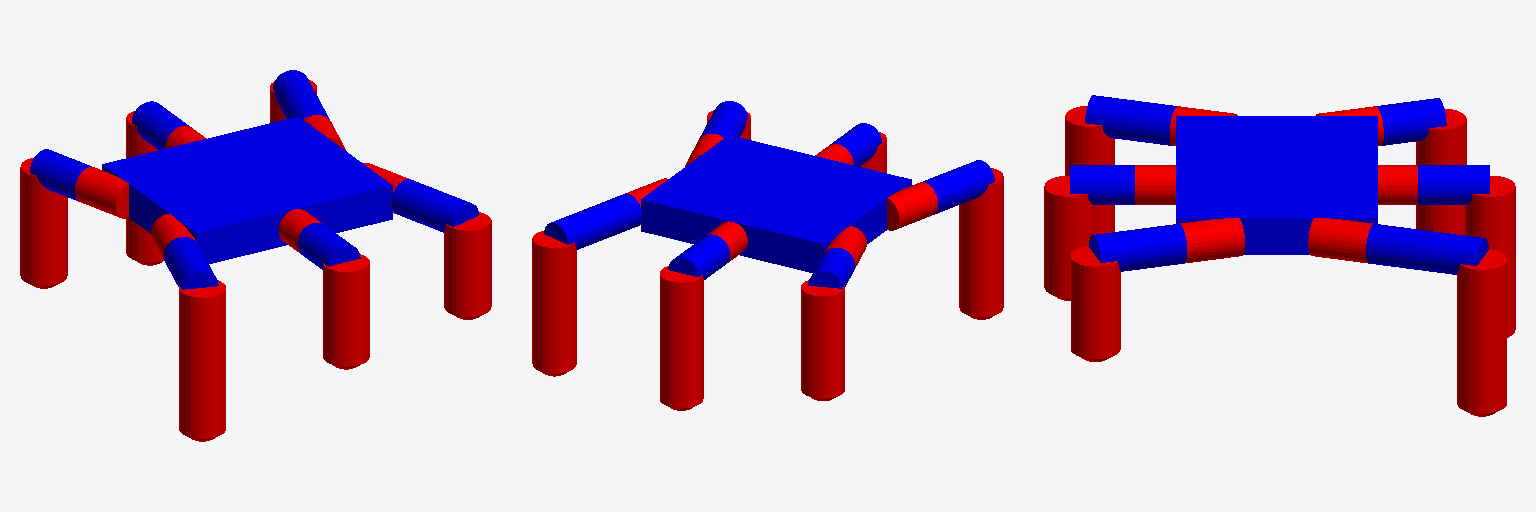
--- Render facts (derived) ---
The picture shows the robot from 3 angles, left to right: view 1: azimuth 30°, elevation 25°; view 2: azimuth 150°, elevation 25°; view 3: azimuth 270°, elevation 25°; orthographic projection.
Robot: pexod — 19 links, 18 joints (18 revolute); root link base_link; default pose: all joints at 0.
Links seen in each view (by area): view 1: base_link, leg_5_3, leg_0_3, leg_4_3, leg_3_3, leg_3_2, leg_0_1, leg_5_2, leg_4_2, leg_1_3, leg_2_2, leg_0_2 (+4 smaller); view 2: base_link, leg_2_3, leg_1_3, leg_5_3, leg_0_3, leg_2_2, leg_5_2, leg_5_1, leg_1_2, leg_0_2, leg_4_2, leg_3_2 (+2 smaller); view 3: base_link, leg_2_3, leg_3_3, leg_2_2, leg_4_3, leg_1_3, leg_3_2, leg_0_3, leg_5_2, leg_5_3, leg_1_2, leg_4_2 (+7 smaller).
Boxes of the visible links, x1=… form: base_link: x1=102, y1=116, x2=392, y2=263; leg_5_3: x1=179, y1=280, x2=225, y2=441; leg_0_3: x1=20, y1=158, x2=67, y2=288; leg_4_3: x1=323, y1=254, x2=369, y2=369; leg_3_3: x1=444, y1=212, x2=491, y2=319; leg_3_2: x1=391, y1=179, x2=478, y2=232; leg_0_1: x1=75, y1=167, x2=128, y2=218; leg_5_2: x1=164, y1=237, x2=218, y2=289; leg_4_2: x1=297, y1=223, x2=360, y2=269; leg_1_3: x1=126, y1=111, x2=163, y2=265; leg_2_2: x1=273, y1=70, x2=331, y2=122; leg_0_2: x1=30, y1=149, x2=91, y2=201; base_link: x1=641, y1=135, x2=911, y2=272; leg_2_3: x1=532, y1=231, x2=576, y2=376; leg_1_3: x1=660, y1=266, x2=703, y2=410; leg_5_3: x1=959, y1=168, x2=1003, y2=319; leg_0_3: x1=801, y1=280, x2=844, y2=400; leg_2_2: x1=544, y1=194, x2=641, y2=249; leg_5_2: x1=923, y1=160, x2=994, y2=214; leg_5_1: x1=887, y1=182, x2=937, y2=230; leg_1_2: x1=668, y1=234, x2=729, y2=279; leg_0_2: x1=808, y1=248, x2=854, y2=288; leg_4_2: x1=830, y1=123, x2=881, y2=166; leg_3_2: x1=699, y1=101, x2=747, y2=138; base_link: x1=1176, y1=116, x2=1377, y2=254; leg_2_3: x1=1457, y1=249, x2=1506, y2=416; leg_3_3: x1=1071, y1=246, x2=1120, y2=361; leg_2_2: x1=1366, y1=224, x2=1488, y2=274; leg_4_3: x1=1044, y1=176, x2=1094, y2=300; leg_1_3: x1=1465, y1=176, x2=1515, y2=337; leg_3_2: x1=1089, y1=224, x2=1186, y2=271; leg_0_3: x1=1416, y1=108, x2=1466, y2=234; leg_5_2: x1=1085, y1=95, x2=1176, y2=145; leg_5_3: x1=1065, y1=106, x2=1114, y2=234; leg_1_2: x1=1418, y1=165, x2=1489, y2=204; leg_4_2: x1=1070, y1=165, x2=1134, y2=204.
Bounding box of the posed robot: 0.3851 × 0.4666 × 0.1976 m (x, y, z).
Geometry: primitives only (box / cylinder / sphere), no mesh files.

URDF robot description (pexod):
<?xml version="1.0" ?>
<!-- =================================================================================== -->
<!-- |    This document was autogenerated by xacro from pexod.xacro                    | -->
<!-- |    EDITING THIS FILE BY HAND IS NOT RECOMMENDED                                 | -->
<!-- =================================================================================== -->
<robot name="pexod" xmlns:xacro="http://www.ros.org/wiki/xacro">
  <!-- <xacro:include filename="$(find pexod_description)/urdf/pexod_control.xacro" /> -->
  <!-- MATERIALS -->
  <material name="Blue">
    <color rgba="0 0 1 1"/>
  </material>
  <material name="Red">
    <color rgba="1 0 0 1"/>
  </material>
  <material name="Green">
    <color rgba="0 1 0 1"/>
  </material>
  <material name="Yellow">
    <color rgba="1 1 0 1"/>
  </material>
  <material name="LightGrey">
    <color rgba="0.6 0.6 0.6 1.0"/>
  </material>
  <!-- END OF MATERIALS -->
  <!-- XACRO MACROS FOR VISUALS AND COLLISIONS -->
  <!-- END OF XACRO MACROS -->
  <!-- TORSO -->
  <link name="base_link">
    <visual>
      <origin rpy="0 0 0" xyz="0 0 0"/>
      <geometry>
        <box size="0.24 0.2 0.04"/>
      </geometry>
      <material name="Blue"/>
    </visual>
    <collision>
      <origin rpy="0 0 0" xyz="0 0 0"/>
      <geometry>
        <box size="0.24 0.2 0.04"/>
      </geometry>
    </collision>
    <inertial>
      <!-- CENTER OF MASS -->
      <origin rpy="0 0 0" xyz="0 0 0"/>
      <mass value="1.031"/>
      <!-- box inertia: 1/12*m(y^2+z^2), ... -->
      <inertia ixx="0.00357413333333" ixy="0" ixz="0" iyy="0.00508626666667" iyz="0" izz="0.00838546666667"/>
    </inertial>
  </link>
  <!-- XACRO MACRO FOR LEGS LINKS/JOINTS -->
  <!-- END OF LEG LINKS/JOINTS -->
  <joint name="body_leg_2" type="revolute">
    <parent link="base_link"/>
    <child link="leg_2_1"/>
    <limit effort="30.0" lower="-1.57079632679" upper="1.57079632679" velocity="7.0"/>
    <origin rpy="0 0 -0.3" xyz="0.11 0.04 0"/>
    <!-- <xacro:if value="${index == 5 or index == 4 or index == 3}">
                <axis xyz="0 0 1"/>
            </xacro:if>
            <xacro:if value="${index == 2 or index == 1 or index == 0}"> -->
    <axis xyz="0 0 1"/>
    <!-- </xacro:if> -->
    <dynamics damping="0.0"/>
  </joint>
  <link name="leg_2_1">
    <visual>
      <origin rpy="1.57079632679 0 0" xyz="0.01 0.03 0"/>
      <geometry>
        <cylinder length="0.06" radius="0.02"/>
      </geometry>
      <material name="Red"/>
    </visual>
    <collision>
      <origin rpy="1.57079632679 0 0" xyz="0.01 0.03 0"/>
      <geometry>
        <box size="0.02 0.02 0.06"/>
      </geometry>
    </collision>
    <inertial>
      <!-- CENTER OF MASS -->
      <origin rpy="1.57079632679 0 0" xyz="0.01 0.03 0"/>
      <mass value="0.02"/>
      <!-- box inertia: 1/12*m(y^2+z^2), ... -->
      <inertia ixx="6.66666666667e-06" ixy="0" ixz="0" iyy="6.66666666667e-06" iyz="0" izz="1.33333333333e-06"/>
    </inertial>
  </link>
  <joint name="leg_2_1_2" type="revolute">
    <parent link="leg_2_1"/>
    <child link="leg_2_2"/>
    <limit effort="30.0" lower="-0.78539816339" upper="0.78539816339" velocity="7.0"/>
    <origin rpy="0 0 0" xyz="0 0.06 0"/>
    <axis xyz="1 0 0"/>
    <dynamics damping="0.0"/>
  </joint>
  <link name="leg_2_2">
    <visual>
      <origin rpy="1.57079632679 0 0" xyz="0.01 0.057443594527 0"/>
      <geometry>
        <cylinder length="0.114887189054" radius="0.02"/>
      </geometry>
      <material name="Blue"/>
    </visual>
    <collision>
      <origin rpy="1.57079632679 0 0" xyz="0.01 0.057443594527 0"/>
      <geometry>
        <box size="0.02 0.02 0.114887189054"/>
      </geometry>
    </collision>
    <inertial>
      <!-- CENTER OF MASS -->
      <origin rpy="1.57079632679 0 0" xyz="0.01 0.057443594527 0"/>
      <mass value="0.184"/>
      <!-- box inertia: 1/12*m(y^2+z^2), ... -->
      <inertia ixx="0.000208519015201" ixy="0" ixz="0" iyy="0.000208519015201" iyz="0" izz="1.22666666667e-05"/>
    </inertial>
  </link>
  <joint name="leg_2_2_3" type="revolute">
    <parent link="leg_2_2"/>
    <child link="leg_2_3"/>
    <limit effort="30.0" lower="-0.78539816339" upper="0.78539816339" velocity="7.0"/>
    <origin rpy="-1.57079632679 0 0" xyz="0 0.114887189054 0"/>
    <axis xyz="-1 0 0"/>
    <dynamics damping="0.0"/>
  </joint>
  <link name="leg_2_3">
    <visual>
      <origin rpy="1.57079632679 0 0" xyz="0.0125 0.0786646123855 0"/>
      <geometry>
        <cylinder length="0.157329224771" radius="0.025"/>
      </geometry>
      <material name="Red"/>
    </visual>
    <visual>
      <origin rpy="1.57079632679 0 0" xyz="0.0125 0.144829224771 0"/>
      <geometry>
        <sphere radius="0.025"/>
      </geometry>
      <material name="Red"/>
    </visual>
    <collision>
      <origin rpy="1.57079632679 0 0" xyz="0.0125 0.0786646123855 0"/>
      <geometry>
        <box size="0.025 0.025 0.157329224771"/>
      </geometry>
    </collision>
    <collision>
      <origin rpy="1.57079632679 0 0" xyz="0.0125 0.144829224771 0"/>
      <geometry>
        <sphere radius="0.025"/>
      </geometry>
      <material name="Red"/>
    </collision>
    <inertial>
      <!-- CENTER OF MASS -->
      <origin rpy="1.57079632679 0 0" xyz="0.0125 0.0786646123855 0"/>
      <mass value="0.04"/>
      <!-- box inertia: 1/12*m(y^2+z^2), ... -->
      <inertia ixx="8.45916165568e-05" ixy="0" ixz="0" iyy="8.45916165568e-05" iyz="0" izz="4.16666666667e-06"/>
    </inertial>
  </link>
  <joint name="body_leg_3" type="revolute">
    <parent link="base_link"/>
    <child link="leg_3_1"/>
    <limit effort="30.0" lower="-1.57079632679" upper="1.57079632679" velocity="7.0"/>
    <origin rpy="0 0 0.3" xyz="0.11 -0.04 0"/>
    <!-- <xacro:if value="${index == 5 or index == 4 or index == 3}">
                <axis xyz="0 0 1"/>
            </xacro:if>
            <xacro:if value="${index == 2 or index == 1 or index == 0}"> -->
    <axis xyz="0 0 1"/>
    <!-- </xacro:if> -->
    <dynamics damping="0.0"/>
  </joint>
  <link name="leg_3_1">
    <visual>
      <origin rpy="1.57079632679 0 0" xyz="0.01 -0.03 0"/>
      <geometry>
        <cylinder length="0.06" radius="0.02"/>
      </geometry>
      <material name="Red"/>
    </visual>
    <collision>
      <origin rpy="1.57079632679 0 0" xyz="0.01 -0.03 0"/>
      <geometry>
        <box size="0.02 0.02 0.06"/>
      </geometry>
    </collision>
    <inertial>
      <!-- CENTER OF MASS -->
      <origin rpy="1.57079632679 0 0" xyz="0.01 -0.03 0"/>
      <mass value="0.02"/>
      <!-- box inertia: 1/12*m(y^2+z^2), ... -->
      <inertia ixx="6.66666666667e-06" ixy="0" ixz="0" iyy="6.66666666667e-06" iyz="0" izz="1.33333333333e-06"/>
    </inertial>
  </link>
  <joint name="leg_3_1_2" type="revolute">
    <parent link="leg_3_1"/>
    <child link="leg_3_2"/>
    <limit effort="30.0" lower="-0.78539816339" upper="0.78539816339" velocity="7.0"/>
    <origin rpy="0 0 0" xyz="0 -0.06 0"/>
    <axis xyz="-1 0 0"/>
    <dynamics damping="0.0"/>
  </joint>
  <link name="leg_3_2">
    <visual>
      <origin rpy="1.57079632679 0 0" xyz="0.01 -0.0448784305665 0"/>
      <geometry>
        <cylinder length="0.089756861133" radius="0.02"/>
      </geometry>
      <material name="Blue"/>
    </visual>
    <collision>
      <origin rpy="1.57079632679 0 0" xyz="0.01 -0.0448784305665 0"/>
      <geometry>
        <box size="0.02 0.02 0.089756861133"/>
      </geometry>
    </collision>
    <inertial>
      <!-- CENTER OF MASS -->
      <origin rpy="1.57079632679 0 0" xyz="0.01 -0.0448784305665 0"/>
      <mass value="0.184"/>
      <!-- box inertia: 1/12*m(y^2+z^2), ... -->
      <inertia ixx="0.000129663176514" ixy="0" ixz="0" iyy="0.000129663176514" iyz="0" izz="1.22666666667e-05"/>
    </inertial>
  </link>
  <joint name="leg_3_2_3" type="revolute">
    <parent link="leg_3_2"/>
    <child link="leg_3_3"/>
    <limit effort="30.0" lower="-0.78539816339" upper="0.78539816339" velocity="7.0"/>
    <origin rpy="1.57079632679 0 0" xyz="0 -0.089756861133 0"/>
    <axis xyz="1 0 0"/>
    <dynamics damping="0.0"/>
  </joint>
  <link name="leg_3_3">
    <visual>
      <origin rpy="1.57079632679 0 0" xyz="0.0125 -0.0506170366045 0"/>
      <geometry>
        <cylinder length="0.101234073209" radius="0.025"/>
      </geometry>
      <material name="Red"/>
    </visual>
    <visual>
      <origin rpy="1.57079632679 0 0" xyz="0.0125 -0.088734073209 0"/>
      <geometry>
        <sphere radius="0.025"/>
      </geometry>
      <material name="Red"/>
    </visual>
    <collision>
      <origin rpy="1.57079632679 0 0" xyz="0.0125 -0.0506170366045 0"/>
      <geometry>
        <box size="0.025 0.025 0.101234073209"/>
      </geometry>
    </collision>
    <collision>
      <origin rpy="1.57079632679 0 0" xyz="0.0125 -0.088734073209 0"/>
      <geometry>
        <sphere radius="0.025"/>
      </geometry>
      <material name="Red"/>
    </collision>
    <inertial>
      <!-- CENTER OF MASS -->
      <origin rpy="1.57079632679 0 0" xyz="0.0125 -0.0506170366045 0"/>
      <mass value="0.04"/>
      <!-- box inertia: 1/12*m(y^2+z^2), ... -->
      <inertia ixx="3.6244458595e-05" ixy="0" ixz="0" iyy="3.6244458595e-05" iyz="0" izz="4.16666666667e-06"/>
    </inertial>
  </link>
  <joint name="body_leg_0" type="revolute">
    <parent link="base_link"/>
    <child link="leg_0_1"/>
    <limit effort="30.0" lower="-1.57079632679" upper="1.57079632679" velocity="7.0"/>
    <origin rpy="0 0 0.3" xyz="-0.13 0.04 0"/>
    <!-- <xacro:if value="${index == 5 or index == 4 or index == 3}">
                <axis xyz="0 0 1"/>
            </xacro:if>
            <xacro:if value="${index == 2 or index == 1 or index == 0}"> -->
    <axis xyz="0 0 1"/>
    <!-- </xacro:if> -->
    <dynamics damping="0.0"/>
  </joint>
  <link name="leg_0_1">
    <visual>
      <origin rpy="1.57079632679 0 0" xyz="0.01 0.03 0"/>
      <geometry>
        <cylinder length="0.06" radius="0.02"/>
      </geometry>
      <material name="Red"/>
    </visual>
    <collision>
      <origin rpy="1.57079632679 0 0" xyz="0.01 0.03 0"/>
      <geometry>
        <box size="0.02 0.02 0.06"/>
      </geometry>
    </collision>
    <inertial>
      <!-- CENTER OF MASS -->
      <origin rpy="1.57079632679 0 0" xyz="0.01 0.03 0"/>
      <mass value="0.02"/>
      <!-- box inertia: 1/12*m(y^2+z^2), ... -->
      <inertia ixx="6.66666666667e-06" ixy="0" ixz="0" iyy="6.66666666667e-06" iyz="0" izz="1.33333333333e-06"/>
    </inertial>
  </link>
  <joint name="leg_0_1_2" type="revolute">
    <parent link="leg_0_1"/>
    <child link="leg_0_2"/>
    <limit effort="30.0" lower="-0.78539816339" upper="0.78539816339" velocity="7.0"/>
    <origin rpy="0 0 0" xyz="0 0.06 0"/>
    <axis xyz="1 0 0"/>
    <dynamics damping="0.0"/>
  </joint>
  <link name="leg_0_2">
    <visual>
      <origin rpy="1.57079632679 0 0" xyz="0.01 0.0325043021292 0"/>
      <geometry>
        <cylinder length="0.0650086042584" radius="0.02"/>
      </geometry>
      <material name="Blue"/>
    </visual>
    <collision>
      <origin rpy="1.57079632679 0 0" xyz="0.01 0.0325043021292 0"/>
      <geometry>
        <box size="0.02 0.02 0.0650086042584"/>
      </geometry>
    </collision>
    <inertial>
      <!-- CENTER OF MASS -->
      <origin rpy="1.57079632679 0 0" xyz="0.01 0.0325043021292 0"/>
      <mass value="0.184"/>
      <!-- box inertia: 1/12*m(y^2+z^2), ... -->
      <inertia ixx="7.09338189569e-05" ixy="0" ixz="0" iyy="7.09338189569e-05" iyz="0" izz="1.22666666667e-05"/>
    </inertial>
  </link>
  <joint name="leg_0_2_3" type="revolute">
    <parent link="leg_0_2"/>
    <child link="leg_0_3"/>
    <limit effort="30.0" lower="-0.78539816339" upper="0.78539816339" velocity="7.0"/>
    <origin rpy="-1.57079632679 0 0" xyz="0 0.0650086042584 0"/>
    <axis xyz="-1 0 0"/>
    <dynamics damping="0.0"/>
  </joint>
  <link name="leg_0_3">
    <visual>
      <origin rpy="1.57079632679 0 0" xyz="0.0125 0.064102897547 0"/>
      <geometry>
        <cylinder length="0.128205795094" radius="0.025"/>
      </geometry>
      <material name="Red"/>
    </visual>
    <visual>
      <origin rpy="1.57079632679 0 0" xyz="0.0125 0.115705795094 0"/>
      <geometry>
        <sphere radius="0.025"/>
      </geometry>
      <material name="Red"/>
    </visual>
    <collision>
      <origin rpy="1.57079632679 0 0" xyz="0.0125 0.064102897547 0"/>
      <geometry>
        <box size="0.025 0.025 0.128205795094"/>
      </geometry>
    </collision>
    <collision>
      <origin rpy="1.57079632679 0 0" xyz="0.0125 0.115705795094 0"/>
      <geometry>
        <sphere radius="0.025"/>
      </geometry>
      <material name="Red"/>
    </collision>
    <inertial>
      <!-- CENTER OF MASS -->
      <origin rpy="1.57079632679 0 0" xyz="0.0125 0.064102897547 0"/>
      <mass value="0.04"/>
      <!-- box inertia: 1/12*m(y^2+z^2), ... -->
      <inertia ixx="5.68724196523e-05" ixy="0" ixz="0" iyy="5.68724196523e-05" iyz="0" izz="4.16666666667e-06"/>
    </inertial>
  </link>
  <joint name="body_leg_5" type="revolute">
    <parent link="base_link"/>
    <child link="leg_5_1"/>
    <limit effort="30.0" lower="-1.57079632679" upper="1.57079632679" velocity="7.0"/>
    <origin rpy="0 0 -0.3" xyz="-0.13 -0.04 0"/>
    <!-- <xacro:if value="${index == 5 or index == 4 or index == 3}">
                <axis xyz="0 0 1"/>
            </xacro:if>
            <xacro:if value="${index == 2 or index == 1 or index == 0}"> -->
    <axis xyz="0 0 1"/>
    <!-- </xacro:if> -->
    <dynamics damping="0.0"/>
  </joint>
  <link name="leg_5_1">
    <visual>
      <origin rpy="1.57079632679 0 0" xyz="0.01 -0.03 0"/>
      <geometry>
        <cylinder length="0.06" radius="0.02"/>
      </geometry>
      <material name="Red"/>
    </visual>
    <collision>
      <origin rpy="1.57079632679 0 0" xyz="0.01 -0.03 0"/>
      <geometry>
        <box size="0.02 0.02 0.06"/>
      </geometry>
    </collision>
    <inertial>
      <!-- CENTER OF MASS -->
      <origin rpy="1.57079632679 0 0" xyz="0.01 -0.03 0"/>
      <mass value="0.02"/>
      <!-- box inertia: 1/12*m(y^2+z^2), ... -->
      <inertia ixx="6.66666666667e-06" ixy="0" ixz="0" iyy="6.66666666667e-06" iyz="0" izz="1.33333333333e-06"/>
    </inertial>
  </link>
  <joint name="leg_5_1_2" type="revolute">
    <parent link="leg_5_1"/>
    <child link="leg_5_2"/>
    <limit effort="30.0" lower="-0.78539816339" upper="0.78539816339" velocity="7.0"/>
    <origin rpy="0 0 0" xyz="0 -0.06 0"/>
    <axis xyz="-1 0 0"/>
    <dynamics damping="0.0"/>
  </joint>
  <link name="leg_5_2">
    <visual>
      <origin rpy="1.57079632679 0 0" xyz="0.01 -0.0437607284377 0"/>
      <geometry>
        <cylinder length="0.0875214568754" radius="0.02"/>
      </geometry>
      <material name="Blue"/>
    </visual>
    <collision>
      <origin rpy="1.57079632679 0 0" xyz="0.01 -0.0437607284377 0"/>
      <geometry>
        <box size="0.02 0.02 0.0875214568754"/>
      </geometry>
    </collision>
    <inertial>
      <!-- CENTER OF MASS -->
      <origin rpy="1.57079632679 0 0" xyz="0.01 -0.0437607284377 0"/>
      <mass value="0.184"/>
      <!-- box inertia: 1/12*m(y^2+z^2), ... -->
      <inertia ixx="0.000123586749675" ixy="0" ixz="0" iyy="0.000123586749675" iyz="0" izz="1.22666666667e-05"/>
    </inertial>
  </link>
  <joint name="leg_5_2_3" type="revolute">
    <parent link="leg_5_2"/>
    <child link="leg_5_3"/>
    <limit effort="30.0" lower="-0.78539816339" upper="0.78539816339" velocity="7.0"/>
    <origin rpy="1.57079632679 0 0" xyz="0 -0.0875214568754 0"/>
    <axis xyz="1 0 0"/>
    <dynamics damping="0.0"/>
  </joint>
  <link name="leg_5_3">
    <visual>
      <origin rpy="1.57079632679 0 0" xyz="0.0125 -0.0825620798125 0"/>
      <geometry>
        <cylinder length="0.165124159625" radius="0.025"/>
      </geometry>
      <material name="Red"/>
    </visual>
    <visual>
      <origin rpy="1.57079632679 0 0" xyz="0.0125 -0.152624159625 0"/>
      <geometry>
        <sphere radius="0.025"/>
      </geometry>
      <material name="Red"/>
    </visual>
    <collision>
      <origin rpy="1.57079632679 0 0" xyz="0.0125 -0.0825620798125 0"/>
      <geometry>
        <box size="0.025 0.025 0.165124159625"/>
      </geometry>
    </collision>
    <collision>
      <origin rpy="1.57079632679 0 0" xyz="0.0125 -0.152624159625 0"/>
      <geometry>
        <sphere radius="0.025"/>
      </geometry>
      <material name="Red"/>
    </collision>
    <inertial>
      <!-- CENTER OF MASS -->
      <origin rpy="1.57079632679 0 0" xyz="0.0125 -0.0825620798125 0"/>
      <mass value="0.04"/>
      <!-- box inertia: 1/12*m(y^2+z^2), ... -->
      <inertia ixx="9.29699603062e-05" ixy="0" ixz="0" iyy="9.29699603062e-05" iyz="0" izz="4.16666666667e-06"/>
    </inertial>
  </link>
  <joint name="body_leg_1" type="revolute">
    <parent link="base_link"/>
    <child link="leg_1_1"/>
    <limit effort="30.0" lower="-1.57079632679" upper="1.57079632679" velocity="7.0"/>
    <origin rpy="0 0 0" xyz="-0.01 0.08 0"/>
    <!-- <xacro:if value="${index == 5 or index == 4 or index == 3}">
                <axis xyz="0 0 1"/>
            </xacro:if>
            <xacro:if value="${index == 2 or index == 1 or index == 0}"> -->
    <axis xyz="0 0 1"/>
    <!-- </xacro:if> -->
    <dynamics damping="0.0"/>
  </joint>
  <link name="leg_1_1">
    <visual>
      <origin rpy="1.57079632679 0 0" xyz="0.01 0.03 0"/>
      <geometry>
        <cylinder length="0.06" radius="0.02"/>
      </geometry>
      <material name="Red"/>
    </visual>
    <collision>
      <origin rpy="1.57079632679 0 0" xyz="0.01 0.03 0"/>
      <geometry>
        <box size="0.02 0.02 0.06"/>
      </geometry>
    </collision>
    <inertial>
      <!-- CENTER OF MASS -->
      <origin rpy="1.57079632679 0 0" xyz="0.01 0.03 0"/>
      <mass value="0.02"/>
      <!-- box inertia: 1/12*m(y^2+z^2), ... -->
      <inertia ixx="6.66666666667e-06" ixy="0" ixz="0" iyy="6.66666666667e-06" iyz="0" izz="1.33333333333e-06"/>
    </inertial>
  </link>
  <joint name="leg_1_1_2" type="revolute">
    <parent link="leg_1_1"/>
    <child link="leg_1_2"/>
    <limit effort="30.0" lower="-0.78539816339" upper="0.78539816339" velocity="7.0"/>
    <origin rpy="0 0 0" xyz="0 0.06 0"/>
    <axis xyz="1 0 0"/>
    <dynamics damping="0.0"/>
  </joint>
  <link name="leg_1_2">
    <visual>
      <origin rpy="1.57079632679 0 0" xyz="0.01 0.0357513820775 0"/>
      <geometry>
        <cylinder length="0.0715027641551" radius="0.02"/>
      </geometry>
      <material name="Blue"/>
    </visual>
    <collision>
      <origin rpy="1.57079632679 0 0" xyz="0.01 0.0357513820775 0"/>
      <geometry>
        <box size="0.02 0.02 0.0715027641551"/>
      </geometry>
    </collision>
    <inertial>
      <!-- CENTER OF MASS -->
      <origin rpy="1.57079632679 0 0" xyz="0.01 0.0357513820775 0"/>
      <mass value="0.184"/>
      <!-- box inertia: 1/12*m(y^2+z^2), ... -->
      <inertia ixx="8.45272276546e-05" ixy="0" ixz="0" iyy="8.45272276546e-05" iyz="0" izz="1.22666666667e-05"/>
    </inertial>
  </link>
  <joint name="leg_1_2_3" type="revolute">
    <parent link="leg_1_2"/>
    <child link="leg_1_3"/>
    <limit effort="30.0" lower="-0.78539816339" upper="0.78539816339" velocity="7.0"/>
    <origin rpy="-1.57079632679 0 0" xyz="0 0.0715027641551 0"/>
    <axis xyz="-1 0 0"/>
    <dynamics damping="0.0"/>
  </joint>
  <link name="leg_1_3">
    <visual>
      <origin rpy="1.57079632679 0 0" xyz="0.0125 0.0786875529825 0"/>
      <geometry>
        <cylinder length="0.157375105965" radius="0.025"/>
      </geometry>
      <material name="Red"/>
    </visual>
    <visual>
      <origin rpy="1.57079632679 0 0" xyz="0.0125 0.144875105965 0"/>
      <geometry>
        <sphere radius="0.025"/>
      </geometry>
      <material name="Red"/>
    </visual>
    <collision>
      <origin rpy="1.57079632679 0 0" xyz="0.0125 0.0786875529825 0"/>
      <geometry>
        <box size="0.025 0.025 0.157375105965"/>
      </geometry>
    </collision>
    <collision>
      <origin rpy="1.57079632679 0 0" xyz="0.0125 0.144875105965 0"/>
      <geometry>
        <sphere radius="0.025"/>
      </geometry>
      <material name="Red"/>
    </collision>
    <inertial>
      <!-- CENTER OF MASS -->
      <origin rpy="1.57079632679 0 0" xyz="0.0125 0.0786875529825 0"/>
      <mass value="0.04"/>
      <!-- box inertia: 1/12*m(y^2+z^2), ... -->
      <inertia ixx="8.46397465916e-05" ixy="0" ixz="0" iyy="8.46397465916e-05" iyz="0" izz="4.16666666667e-06"/>
    </inertial>
  </link>
  <joint name="body_leg_4" type="revolute">
    <parent link="base_link"/>
    <child link="leg_4_1"/>
    <limit effort="30.0" lower="-1.57079632679" upper="1.57079632679" velocity="7.0"/>
    <origin rpy="0 0 0" xyz="-0.01 -0.08 0"/>
    <!-- <xacro:if value="${index == 5 or index == 4 or index == 3}">
                <axis xyz="0 0 1"/>
            </xacro:if>
            <xacro:if value="${index == 2 or index == 1 or index == 0}"> -->
    <axis xyz="0 0 1"/>
    <!-- </xacro:if> -->
    <dynamics damping="0.0"/>
  </joint>
  <link name="leg_4_1">
    <visual>
      <origin rpy="1.57079632679 0 0" xyz="0.01 -0.03 0"/>
      <geometry>
        <cylinder length="0.06" radius="0.02"/>
      </geometry>
      <material name="Red"/>
    </visual>
    <collision>
      <origin rpy="1.57079632679 0 0" xyz="0.01 -0.03 0"/>
      <geometry>
        <box size="0.02 0.02 0.06"/>
      </geometry>
    </collision>
    <inertial>
      <!-- CENTER OF MASS -->
      <origin rpy="1.57079632679 0 0" xyz="0.01 -0.03 0"/>
      <mass value="0.02"/>
      <!-- box inertia: 1/12*m(y^2+z^2), ... -->
      <inertia ixx="6.66666666667e-06" ixy="0" ixz="0" iyy="6.66666666667e-06" iyz="0" izz="1.33333333333e-06"/>
    </inertial>
  </link>
  <joint name="leg_4_1_2" type="revolute">
    <parent link="leg_4_1"/>
    <child link="leg_4_2"/>
    <limit effort="30.0" lower="-0.78539816339" upper="0.78539816339" velocity="7.0"/>
    <origin rpy="0 0 0" xyz="0 -0.06 0"/>
    <axis xyz="-1 0 0"/>
    <dynamics damping="0.0"/>
  </joint>
  <link name="leg_4_2">
    <visual>
      <origin rpy="1.57079632679 0 0" xyz="0.01 -0.0325391821707 0"/>
      <geometry>
        <cylinder length="0.0650783643413" radius="0.02"/>
      </geometry>
      <material name="Blue"/>
    </visual>
    <collision>
      <origin rpy="1.57079632679 0 0" xyz="0.01 -0.0325391821707 0"/>
      <geometry>
        <box size="0.02 0.02 0.0650783643413"/>
      </geometry>
    </collision>
    <inertial>
      <!-- CENTER OF MASS -->
      <origin rpy="1.57079632679 0 0" xyz="0.01 -0.0325391821707 0"/>
      <mass value="0.184"/>
      <!-- box inertia: 1/12*m(y^2+z^2), ... -->
      <inertia ixx="7.10729670819e-05" ixy="0" ixz="0" iyy="7.10729670819e-05" iyz="0" izz="1.22666666667e-05"/>
    </inertial>
  </link>
  <joint name="leg_4_2_3" type="revolute">
    <parent link="leg_4_2"/>
    <child link="leg_4_3"/>
    <limit effort="30.0" lower="-0.78539816339" upper="0.78539816339" velocity="7.0"/>
    <origin rpy="1.57079632679 0 0" xyz="0 -0.0650783643413 0"/>
    <axis xyz="1 0 0"/>
    <dynamics damping="0.0"/>
  </joint>
  <link name="leg_4_3">
    <visual>
      <origin rpy="1.57079632679 0 0" xyz="0.0125 -0.055334494298 0"/>
      <geometry>
        <cylinder length="0.110668988596" radius="0.025"/>
      </geometry>
      <material name="Red"/>
    </visual>
    <visual>
      <origin rpy="1.57079632679 0 0" xyz="0.0125 -0.098168988596 0"/>
      <geometry>
        <sphere radius="0.025"/>
      </geometry>
      <material name="Red"/>
    </visual>
    <collision>
      <origin rpy="1.57079632679 0 0" xyz="0.0125 -0.055334494298 0"/>
      <geometry>
        <box size="0.025 0.025 0.110668988596"/>
      </geometry>
    </collision>
    <collision>
      <origin rpy="1.57079632679 0 0" xyz="0.0125 -0.098168988596 0"/>
      <geometry>
        <sphere radius="0.025"/>
      </geometry>
      <material name="Red"/>
    </collision>
    <inertial>
      <!-- CENTER OF MASS -->
      <origin rpy="1.57079632679 0 0" xyz="0.0125 -0.055334494298 0"/>
      <mass value="0.04"/>
      <!-- box inertia: 1/12*m(y^2+z^2), ... -->
      <inertia ixx="4.29087501229e-05" ixy="0" ixz="0" iyy="4.29087501229e-05" iyz="0" izz="4.16666666667e-06"/>
    </inertial>
  </link>
  <!-- END OF LEG LINKS/JOINTS -->
</robot>
